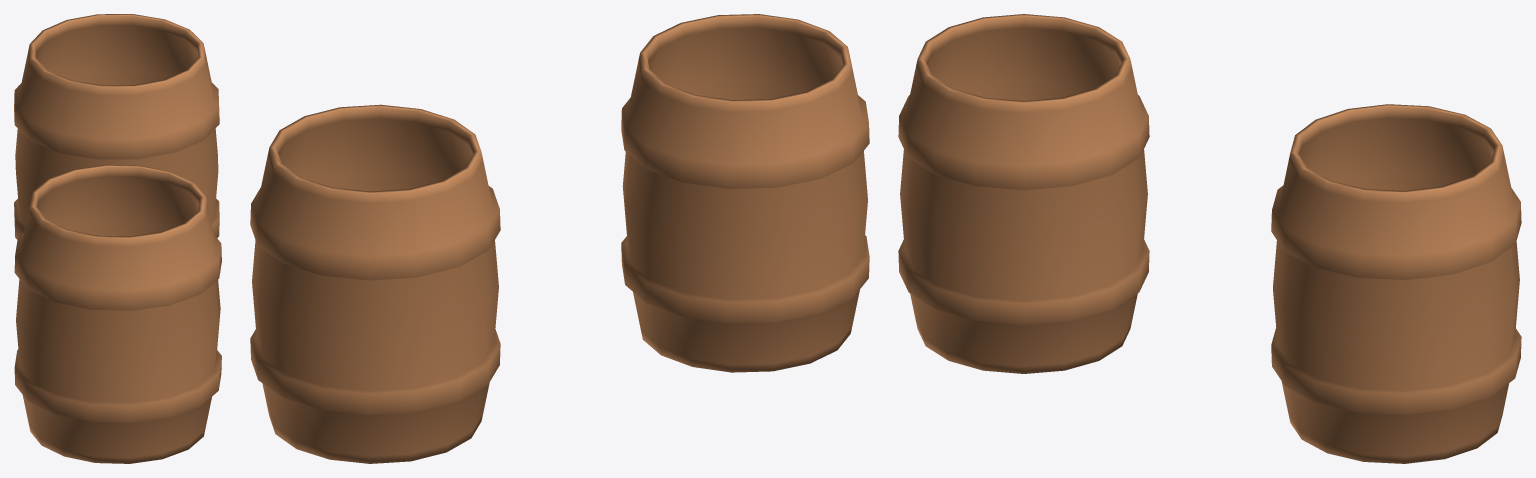
File: Barrel_Multi_01B_Lod0.fbx
3 renders of one model, left to right at view 1: azimuth 30°, elevation 25°; view 2: azimuth 150°, elevation 25°; view 3: azimuth 270°, elevation 25°, orthographic. The views are drawn at different scales.
Parts seen in each view (by area): view 1: Barrel_Multi_01B_Lod0; view 2: Barrel_Multi_01B_Lod0; view 3: Barrel_Multi_01B_Lod0.
Part boxes in pixels (x1,y1,x2,y2): Barrel_Multi_01B_Lod0: (14,14,221,463); Barrel_Multi_01B_Lod0: (250,14,869,463); Barrel_Multi_01B_Lod0: (898,14,1521,463).
Size of the model in its own units: 124 by 79.88 by 167.
